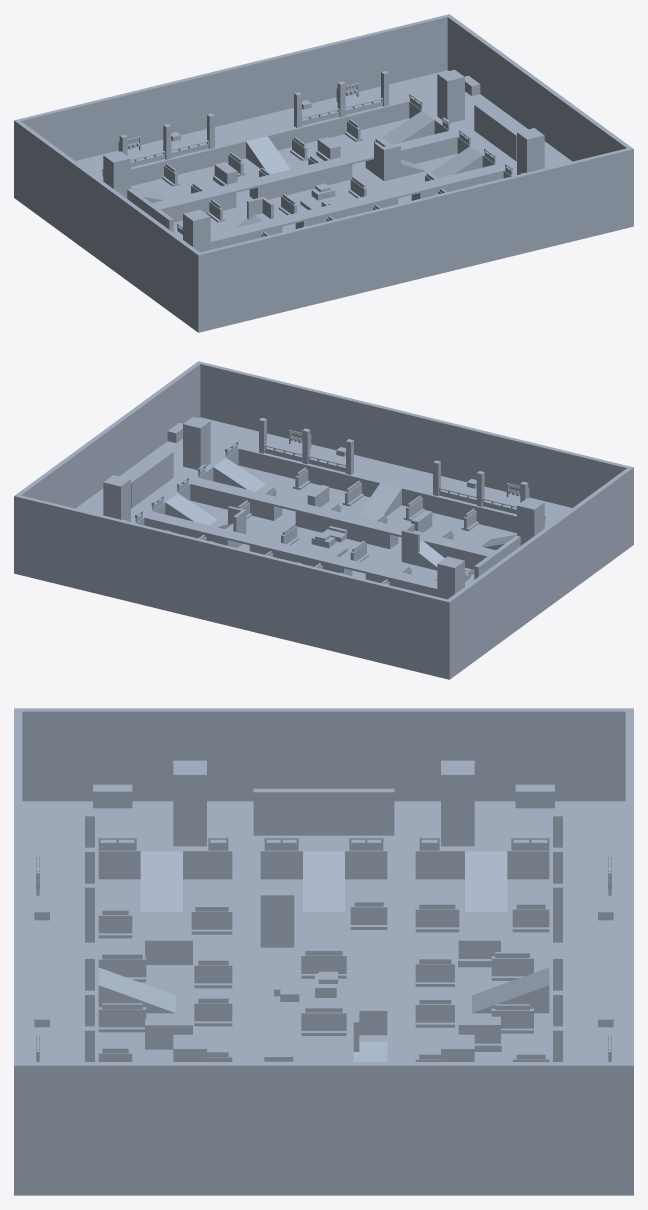
File: lishan_collision.glb
3 renders of one model, top to bottom at view 1: azimuth 30°, elevation 25°; view 2: azimuth 150°, elevation 25°; view 3: azimuth 270°, elevation 25°, orthographic. The views are drawn at different scales.
Parts seen in each view (by area): view 1: COL_wall_z_1, COL_wall_z_-1, COL_wall_x_-1, COL_pit_floor, COL_wall_x_1, COL_gallery_-1, COL_platform_east, COL_baulk_-1_1, COL_baulk_1_1, COL_baulk_-1_0, COL_baulk_-1_2, COL_baulk_1_2 (+10 smaller); view 2: COL_wall_z_-1, COL_wall_z_1, COL_wall_x_-1, COL_pit_floor, COL_wall_x_1, COL_gallery_1, COL_platform_east, COL_baulk_1_1, COL_baulk_1_2, COL_baulk_-1_1, COL_baulk_-1_2, COL_que_tower_east_1 (+11 smaller); view 3: COL_wall_x_1, COL_wall_x_-1, COL_pit_floor, COL_platform_west, COL_gallery_-1, COL_gallery_1, COL_spirit_screen_west, COL_wall_z_-1, COL_wall_z_1, COL_que_tower_west_-1, COL_que_tower_west_1, COL_ramp_west_north (+37 smaller).
Boxes of the visible parts, left/top/right/bottom form: COL_wall_z_1: left=200, top=148, right=629, bottom=323; COL_wall_z_-1: left=19, top=15, right=447, bottom=160; COL_wall_x_-1: left=14, top=119, right=202, bottom=325; COL_pit_floor: left=14, top=118, right=633, bottom=332; COL_wall_x_1: left=445, top=14, right=633, bottom=219; COL_gallery_-1: left=82, top=86, right=409, bottom=186; COL_platform_east: left=389, top=70, right=571, bottom=178; COL_baulk_-1_1: left=249, top=156, right=352, bottom=199; COL_baulk_1_1: left=295, top=190, right=398, bottom=228; COL_baulk_-1_0: left=152, top=185, right=236, bottom=222; COL_baulk_-1_2: left=365, top=131, right=457, bottom=173; COL_baulk_1_2: left=411, top=164, right=503, bottom=200; COL_wall_z_-1: left=18, top=495, right=447, bottom=670; COL_wall_z_1: left=200, top=362, right=628, bottom=507; COL_wall_x_-1: left=445, top=466, right=633, bottom=672; COL_pit_floor: left=14, top=465, right=633, bottom=679; COL_wall_x_1: left=14, top=361, right=202, bottom=566; COL_gallery_1: left=238, top=433, right=565, bottom=533; COL_platform_east: left=76, top=417, right=258, bottom=525; COL_baulk_1_1: left=295, top=503, right=398, bottom=549; COL_baulk_1_2: left=190, top=478, right=282, bottom=520; COL_baulk_-1_1: left=249, top=537, right=352, bottom=575; COL_baulk_-1_2: left=144, top=511, right=236, bottom=547; COL_que_tower_east_1: left=183, top=416, right=210, bottom=469; COL_wall_x_1: left=14, top=1062, right=633, bottom=1182; COL_wall_x_-1: left=14, top=708, right=633, bottom=801; COL_pit_floor: left=14, top=879, right=633, bottom=1195; COL_platform_west: left=22, top=801, right=625, bottom=879; COL_gallery_-1: left=549, top=851, right=625, bottom=1061; COL_gallery_1: left=22, top=851, right=98, bottom=1061; COL_spirit_screen_west: left=253, top=788, right=394, bottom=835; COL_wall_z_-1: left=625, top=711, right=633, bottom=1061; COL_wall_z_1: left=14, top=711, right=22, bottom=1061; COL_que_tower_west_-1: left=441, top=760, right=474, bottom=846; COL_que_tower_west_1: left=173, top=760, right=206, bottom=846; COL_ramp_west_north: left=465, top=851, right=507, bottom=911.
Bounding box in the file's own units: 60 × 10.2 × 44.
